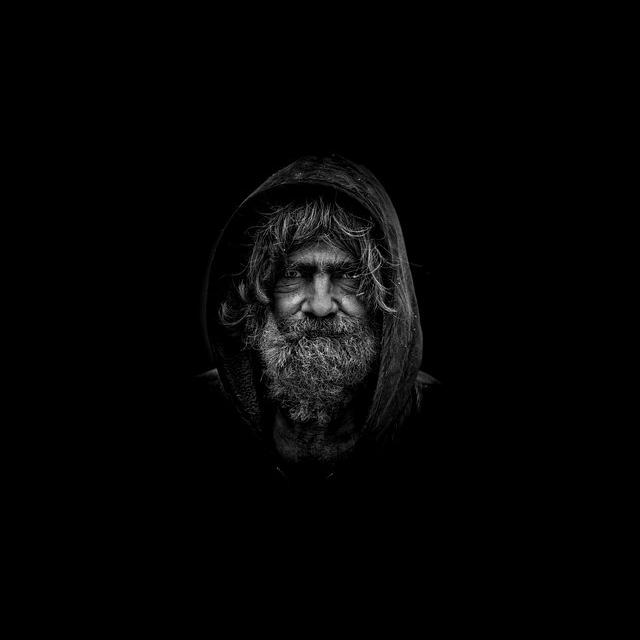male: (248, 153, 408, 451)
